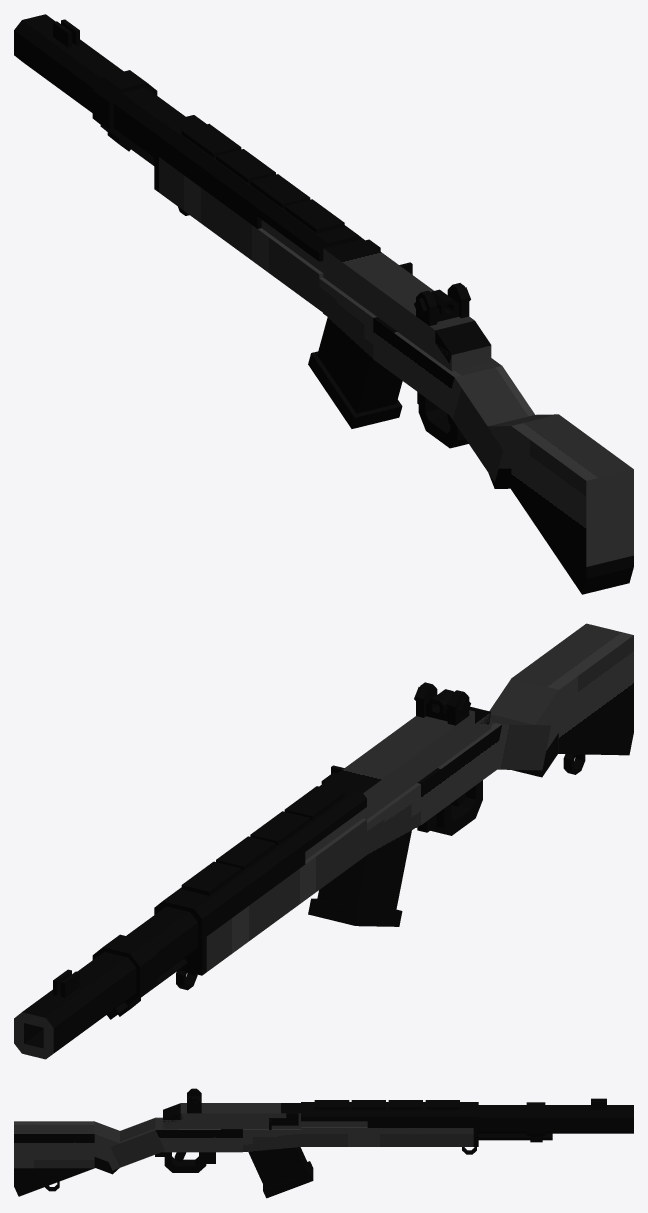
Rendered from mteg_m14.glb.
3 renders of one model, top to bottom at view 1: azimuth 30°, elevation 25°; view 2: azimuth 150°, elevation 25°; view 3: azimuth 270°, elevation 25°, orthographic. The views are drawn at different scales.
Visible parts, largest first — view 1: Gun; view 2: Gun; view 3: Gun.
Boxes of the visible parts, x1,y1,x2,y2 form: Gun: [14, 14, 633, 594]; Gun: [14, 623, 633, 1059]; Gun: [14, 1088, 633, 1198].
Bounding box in the file's own units: 0.1 × 0.2757 × 1.57.
Materials: 1 (1 with a texture image).
